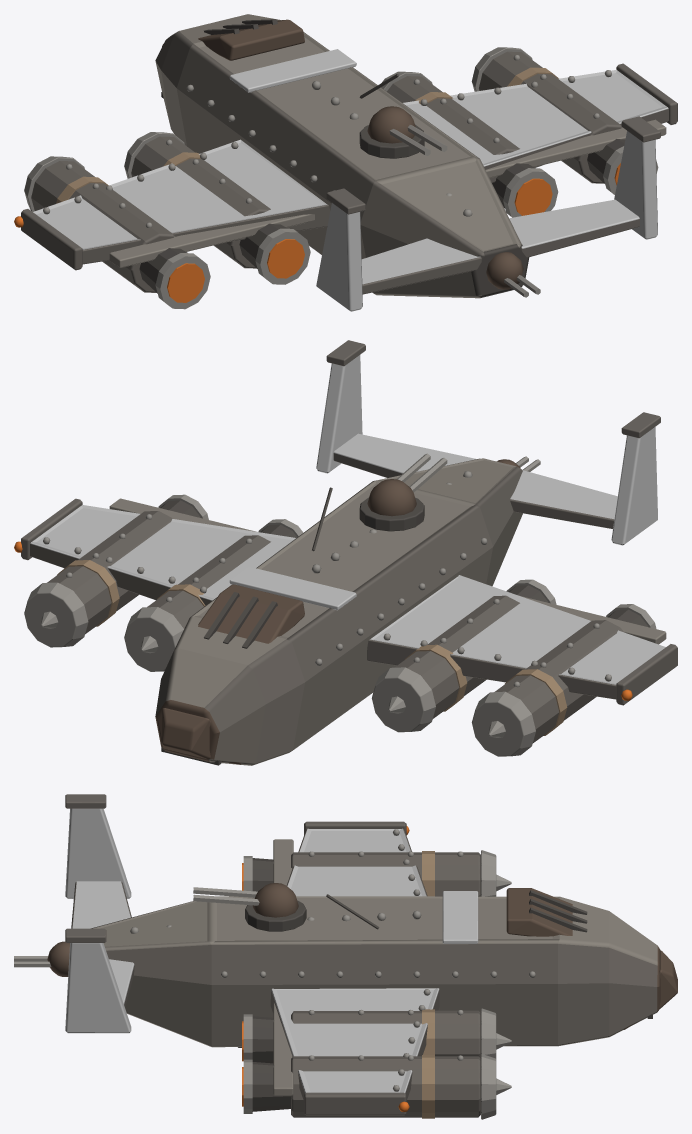
Rendered from crucible_bomber.glb.
3 views of the same model, one above another, from view 1: azimuth 30°, elevation 25°; view 2: azimuth 150°, elevation 25°; view 3: azimuth 270°, elevation 25° (orthographic). The views are drawn at different scales.
Visible parts, largest first — view 1: Body; view 2: Body; view 3: Body.
Boxes of the visible parts, x1,y1,x2,y2 form: Body: [14, 14, 677, 311]; Body: [14, 340, 677, 765]; Body: [14, 794, 677, 1119].
Size of the model in its own units: 2.59 by 0.727 by 2.59.
